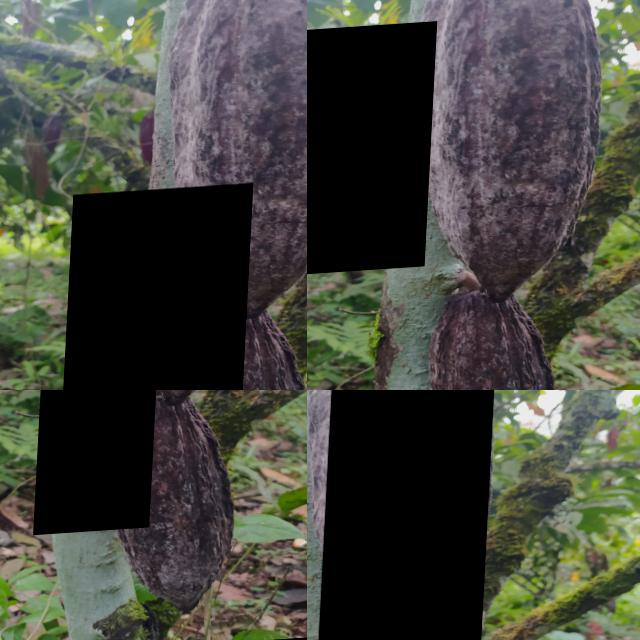Fitoftora: (321, 390, 500, 640), (67, 188, 256, 390), (38, 390, 162, 538)
Monilia: (357, 59, 561, 378), (307, 25, 438, 286)
